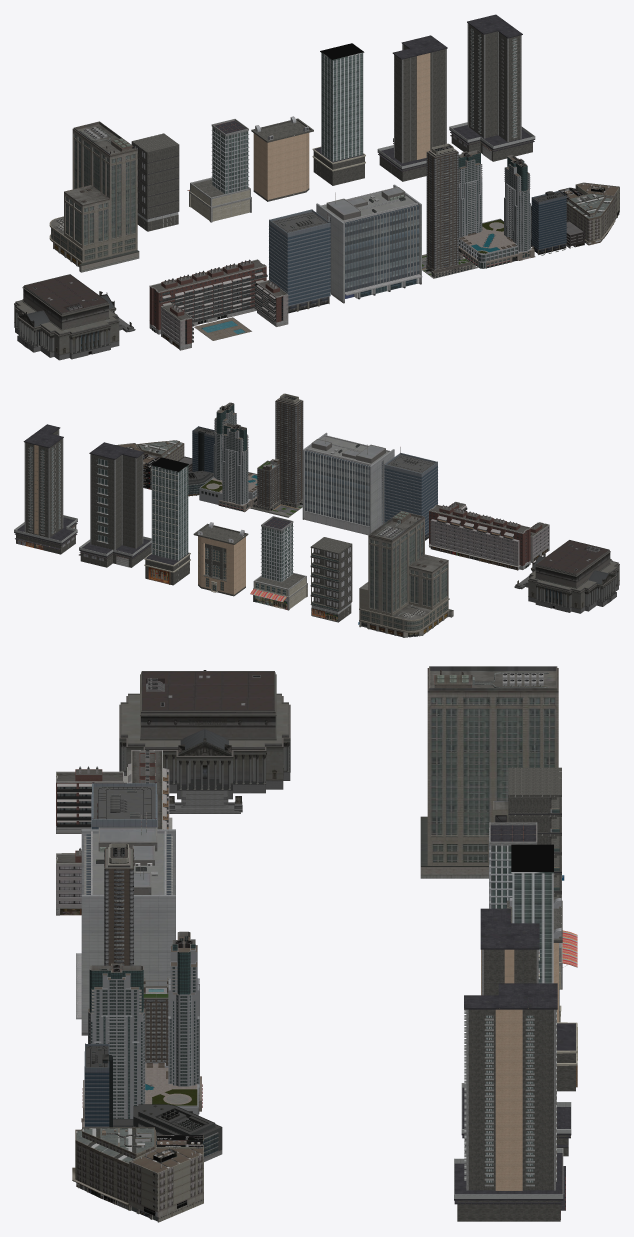
Rendered from Buildings.glb.
The picture shows the model from 3 angles, top to bottom: view 1: azimuth 30°, elevation 25°; view 2: azimuth 150°, elevation 25°; view 3: azimuth 270°, elevation 25°; orthographic projection. The views are drawn at different scales.
Parts seen in each view (by area): view 1: bina.007, bina.001, bina.008, bina.003, bina.005, bina.010, bina, bina.036, bina.009, bina.006, bina.013, bina.015 (+4 smaller); view 2: bina.007, bina.001, bina.010, bina.008, bina.005, bina.003, bina.036, bina.006, bina, bina.013, bina.012, bina.009 (+4 smaller); view 3: bina.007, bina.003, bina.005, bina, bina.001, bina.004, bina.008, bina.036, bina.006, bina.010, bina.014, bina.012 (+4 smaller).
Part boxes in pixels (x1,y1,x2,y2): bina.007: (49,121,139,272); bina.001: (316,184,422,303); bina.008: (149,259,288,350); bina.003: (449,14,535,161); bina.005: (14,274,135,360); bina.010: (377,35,447,181); bina: (458,150,535,268); bina.036: (312,43,365,185); bina.009: (269,209,330,313); bina.006: (422,141,477,278); bina.013: (187,119,251,222); bina.015: (251,116,313,201); bina.007: (358,511,453,637); bina.001: (302,432,394,535); bina.010: (79,442,151,567); bina.008: (428,501,549,570); bina.005: (514,540,619,613); bina.003: (14,424,77,554); bina.036: (144,457,190,585); bina.006: (250,393,303,517); bina: (199,402,257,512); bina.013: (250,516,307,610); bina.012: (310,537,352,622); bina.009: (384,447,437,540); bina.007: (420,666,564,880); bina.003: (454,983,565,1221); bina.005: (119,670,290,813); bina: (81,931,202,1129); bina.001: (76,812,175,1035); bina.004: (72,1127,203,1222); bina.008: (56,749,172,915); bina.036: (511,844,577,1091); bina.006: (104,843,170,1065); bina.010: (461,908,571,1156); bina.014: (84,1043,222,1161); bina.012: (508,767,561,900).
Size of what is drawn, in the model's own units: 258 by 54.21 by 115.
Materials: 12 (11 with a texture image).
